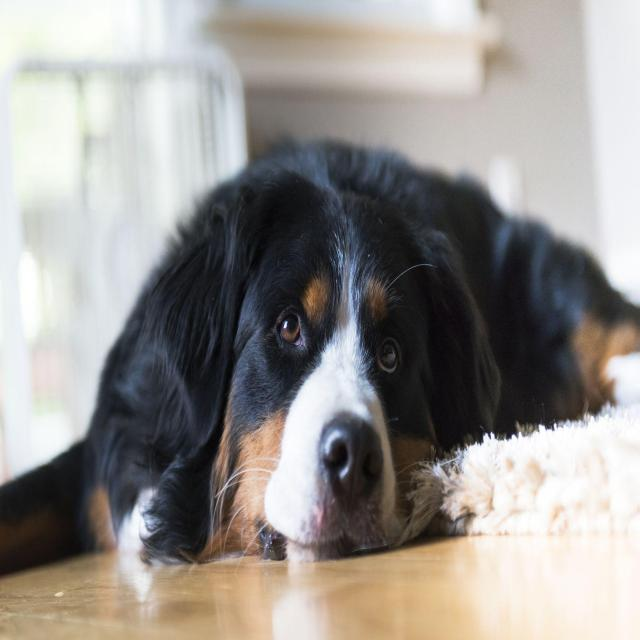Dog: (71, 142, 539, 593)
